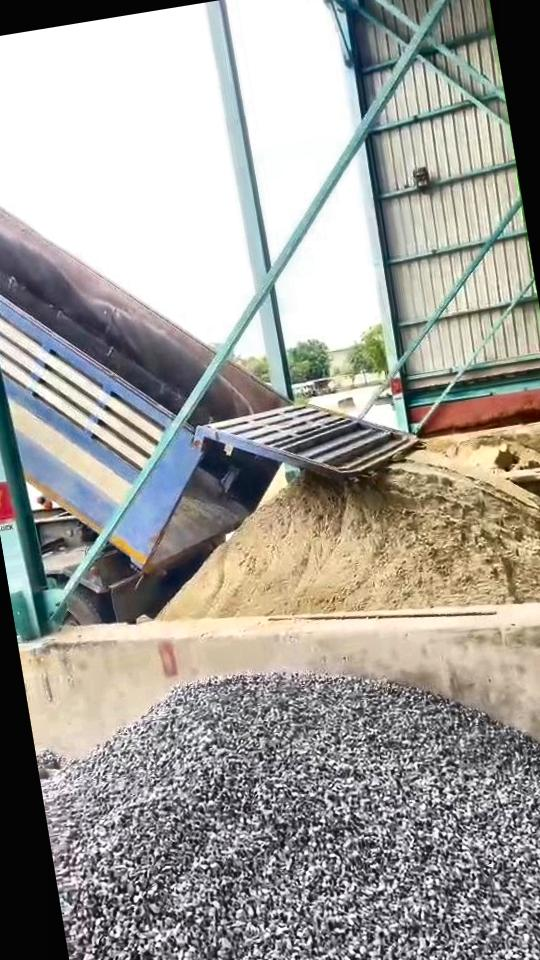gravel: (41, 677, 540, 960)
sand: (161, 451, 540, 620), (446, 436, 540, 472)
